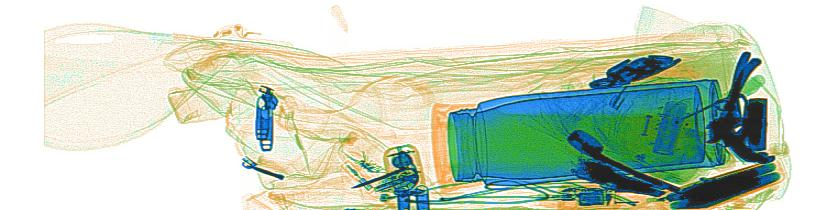battery: (652, 96, 689, 157)
